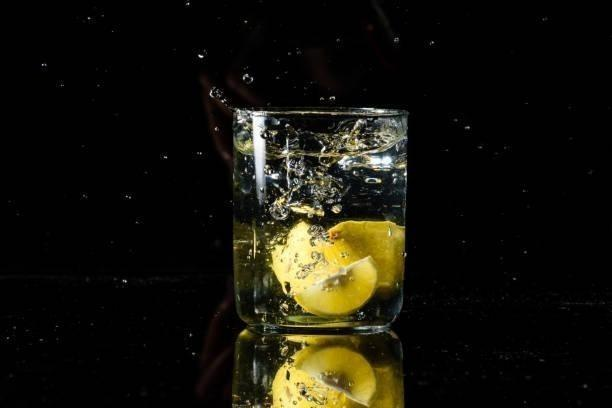glass-normal: (230, 105, 413, 335)
